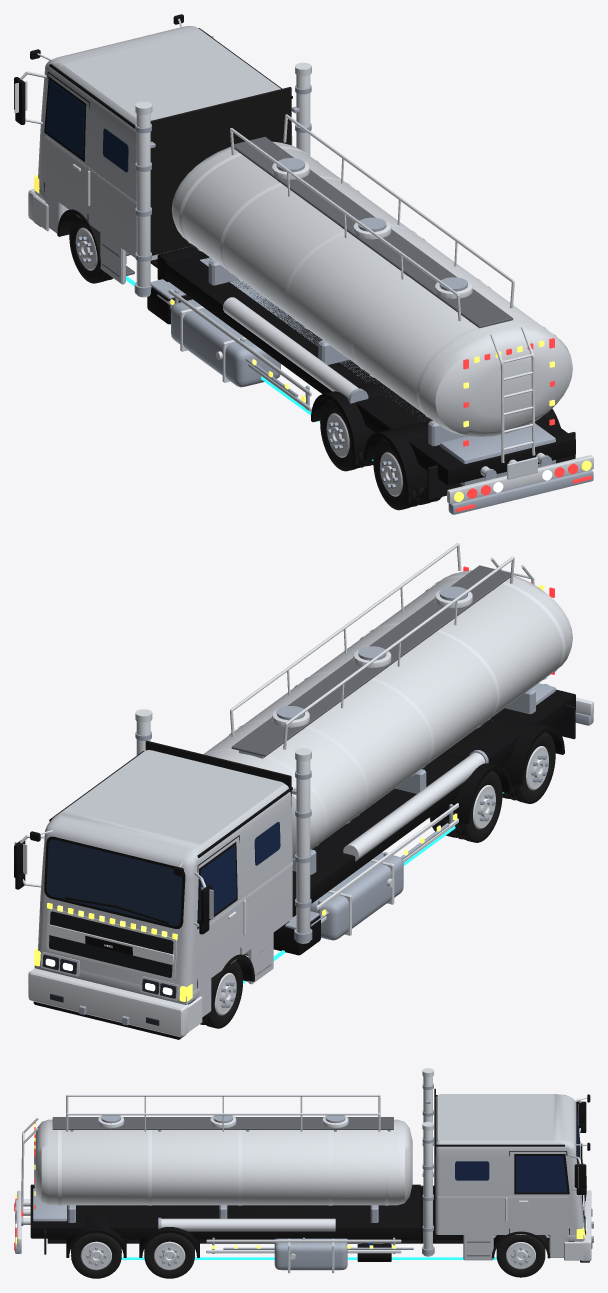
Rendered from dekotora_truck_tanker.glb.
3 renders of one model, top to bottom at view 1: azimuth 30°, elevation 25°; view 2: azimuth 150°, elevation 25°; view 3: azimuth 270°, elevation 25°, orthographic. The views are drawn at different scales.
Visible parts, largest first — view 1: truck_tank_shell, truck_paint_white_panel, truck_chrome, truck_plastic_black, truck_steel, truck_plastic_trim, truck_diamond, truck_glass, wheel_r_L_1.5_1.06, wheel_r_L_3.0_1.06, wheel_f_L, truck_lamp_red (+2 smaller); view 2: truck_tank_shell, truck_paint_white_panel, truck_chrome, truck_plastic_black, truck_steel, truck_glass_wind, truck_diamond, truck_vent_slots, truck_glass, truck_plastic_trim, wheel_r_L_3.0_1.06, wheel_r_L_1.5_1.06 (+3 smaller); view 3: truck_tank_shell, truck_paint_white_panel, truck_plastic_black, truck_chrome, truck_steel, truck_diamond, truck_glass, wheel_r_R_1.5_1.06, wheel_r_R_3.0_1.06, wheel_f_R, truck_plastic_trim, truck_lamp_cyan.
Part boxes in pixels (<box>): truck_tank_shell: <box>171,141,572,436</box>; truck_paint_white_panel: <box>34,26,292,284</box>; truck_chrome: <box>14,18,593,503</box>; truck_plastic_black: <box>14,14,575,491</box>; truck_steel: <box>134,85,593,514</box>; truck_plastic_trim: <box>57,87,291,266</box>; truck_diamond: <box>102,136,513,328</box>; truck_glass: <box>45,80,128,172</box>; wheel_r_L_1.5_1.06: <box>373,438,425,510</box>; wheel_r_L_3.0_1.06: <box>320,399,369,471</box>; wheel_f_L: <box>69,215,113,283</box>; truck_lamp_red: <box>456,338,591,511</box>; truck_tank_shell: <box>204,570,572,860</box>; truck_paint_white_panel: <box>34,750,292,1017</box>; truck_chrome: <box>14,543,593,1037</box>; truck_plastic_black: <box>14,689,575,1039</box>; truck_steel: <box>79,586,593,1025</box>; truck_glass_wind: <box>46,839,182,926</box>; truck_diamond: <box>231,565,510,975</box>; truck_vent_slots: <box>49,911,173,977</box>; truck_glass: <box>199,822,280,920</box>; truck_plastic_trim: <box>145,740,291,1011</box>; wheel_r_L_3.0_1.06: <box>452,771,502,842</box>; wheel_r_L_1.5_1.06: <box>506,732,555,803</box>; truck_tank_shell: <box>34,1119,412,1205</box>; truck_paint_white_panel: <box>435,1094,584,1260</box>; truck_plastic_black: <box>30,1094,590,1262</box>; truck_chrome: <box>17,1068,591,1273</box>; truck_steel: <box>15,1083,593,1270</box>; truck_diamond: <box>52,1117,490,1256</box>; truck_glass: <box>455,1156,567,1192</box>; wheel_r_R_1.5_1.06: <box>71,1233,121,1278</box>; wheel_r_R_3.0_1.06: <box>144,1233,194,1278</box>; wheel_f_R: <box>496,1235,545,1277</box>; truck_plastic_trim: <box>434,1088,550,1258</box>; truck_lamp_cyan: <box>121,1257,545,1259</box>.
Bounding box in the file's own units: 3.24 × 3.55 × 11.89.
20 materials, 6 textured.
